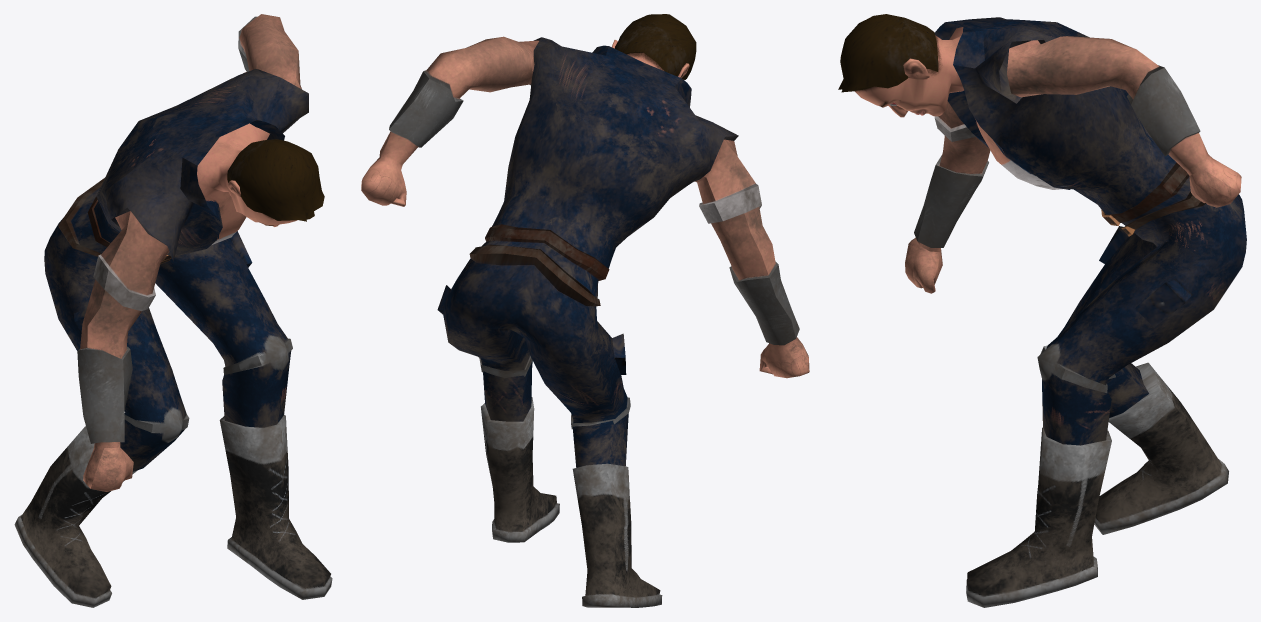
File: Anim_coger_objeto_jugador.0025.obj
3 views of the same model, side by side, from view 1: azimuth 30°, elevation 25°; view 2: azimuth 150°, elevation 25°; view 3: azimuth 270°, elevation 25° (orthographic). The views are drawn at different scales.
Parts seen in each view (by area): view 1: polySurface1; view 2: polySurface1; view 3: polySurface1.
Boxes of the visible parts, <box> form: polySurface1: <box>14,14,332,607</box>; polySurface1: <box>361,14,809,607</box>; polySurface1: <box>838,14,1246,607</box>.
Bounding box in the file's own units: 4.57 × 7.25 × 4.65.
